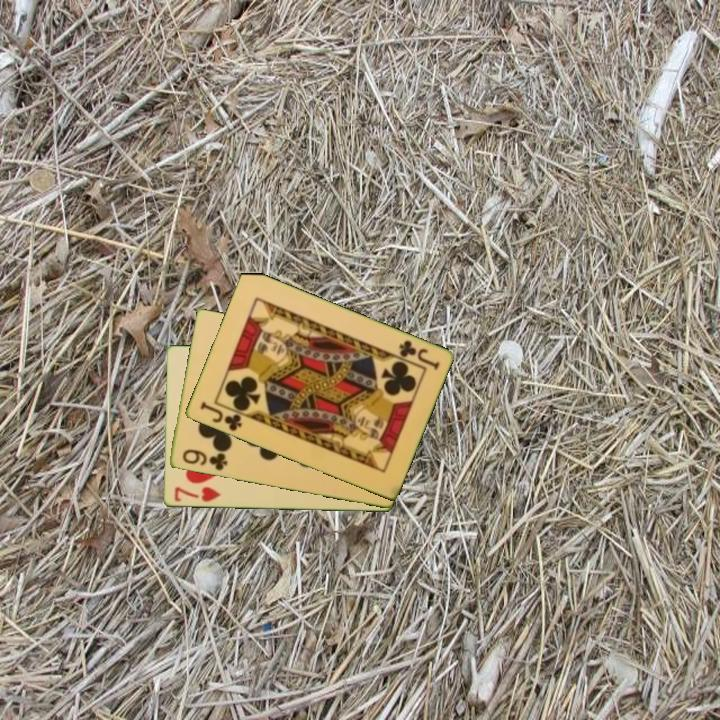7h: (171, 483, 223, 505)
9c: (179, 446, 230, 474)
Jc: (196, 398, 245, 434), (395, 336, 442, 373)
